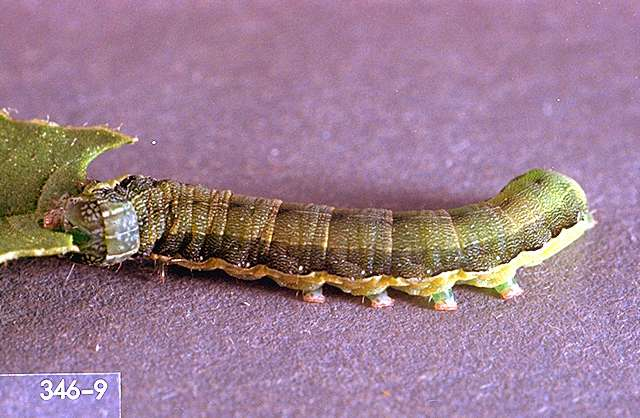Armyworm: (61, 156, 603, 307)
